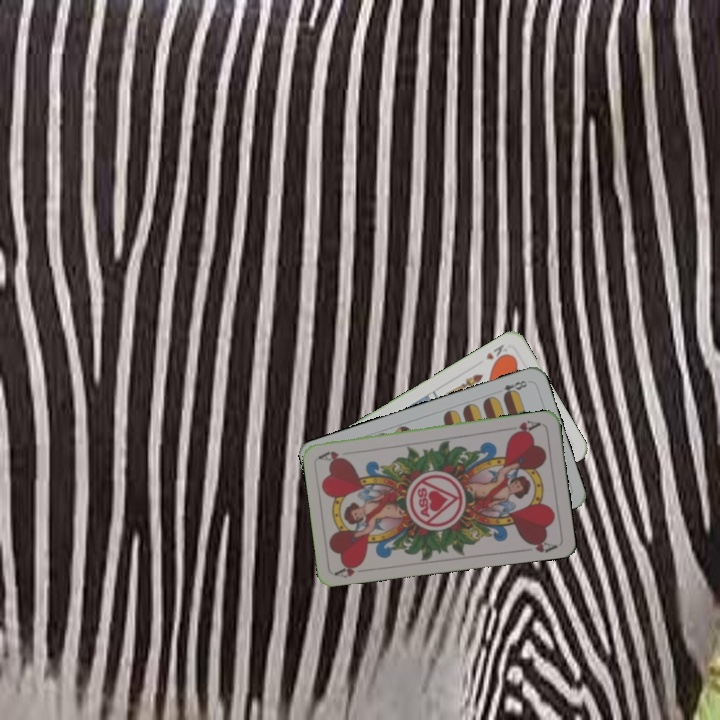E8: (499, 376, 530, 400)
HA: (504, 416, 543, 438), (332, 559, 365, 581)
HK: (482, 340, 512, 366)
